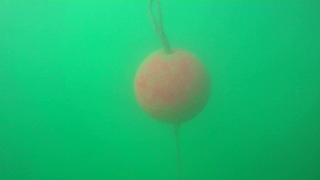buoy: (132, 47, 211, 124)
